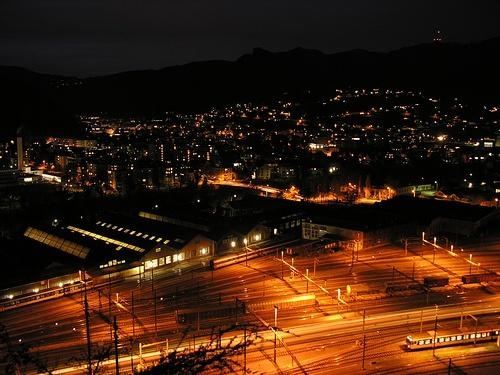train: (1, 276, 128, 312), (207, 237, 306, 273), (404, 323, 500, 351)
